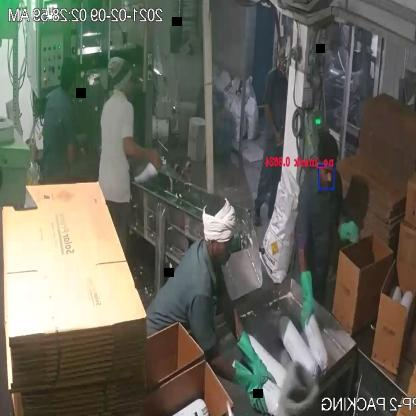glove: (238, 330, 274, 395), (234, 363, 268, 414), (296, 260, 318, 326), (336, 217, 364, 249)
no_glove: (121, 137, 162, 173), (260, 101, 281, 148)
